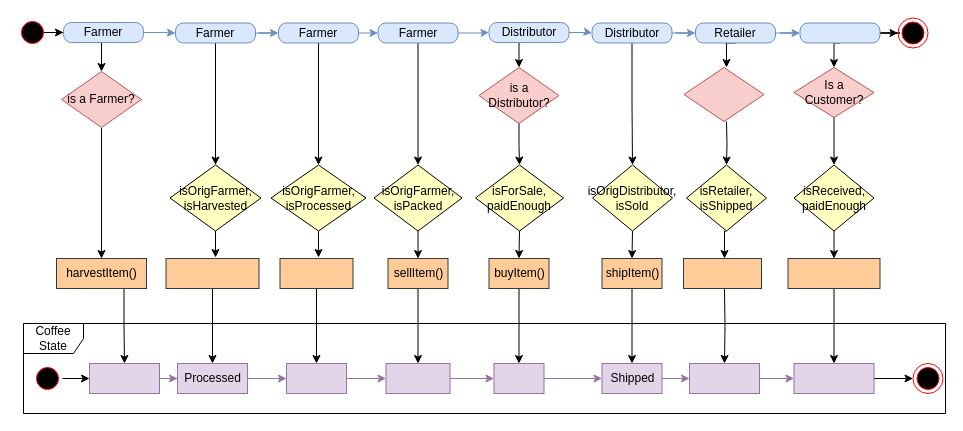
Some shapes in this 963 by 431 pixel diagram are drawn without their labels. Here are the shapes that lost their labels. From the top down, the centre of each, then its label:
At point 839,32: "Consumer".
At point 723,94: "is a Retailer?".
At point 212,273: "processItem()".
At point 316,273: "packItem()".
At point 722,273: "receiveItem()".
At point 833,273: "purchaseItem()".
At point 124,378: "Harvested".
At point 316,378: "Packed".
At point 417,378: "ForSale".
At point 518,378: "Sold".
At point 724,378: "Received".
At point 833,378: "Purchased".
